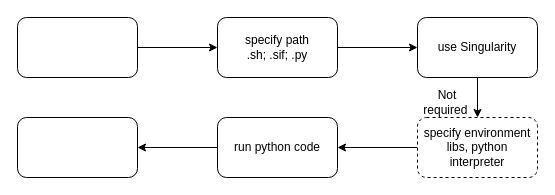
This 555x195 diagram has some shape labels left out. Here are the shapes that lost their labels. From the top down, the box of each, then its label:
(16, 16, 138, 78): Declare environment #sbatch
(16, 116, 138, 178): exit
